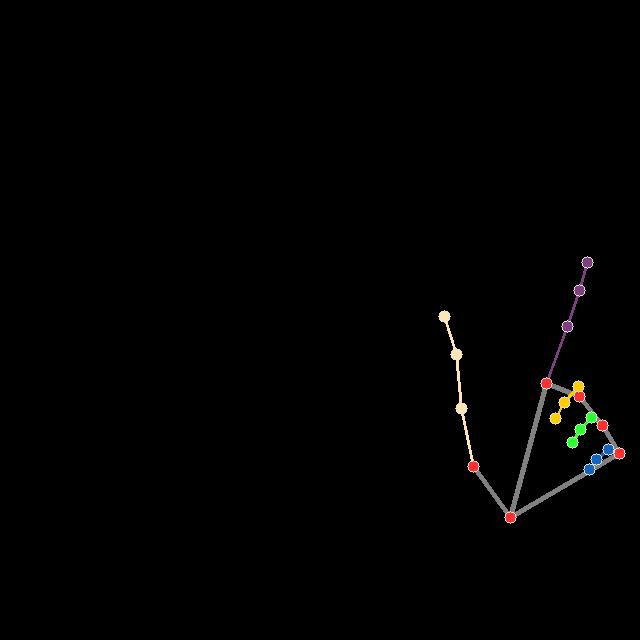gun: (436, 254, 628, 526)
